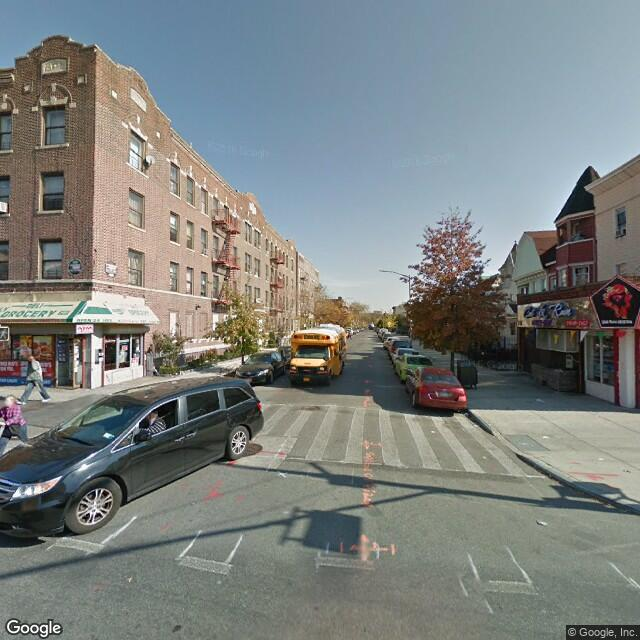litter: (536, 519, 548, 527), (127, 575, 134, 583), (540, 432, 546, 437), (429, 427, 434, 432), (598, 457, 601, 460), (481, 455, 483, 459)
